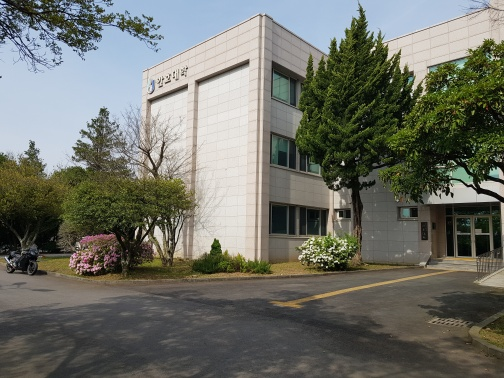College of Nursing: (131, 23, 491, 268), (140, 60, 191, 98)
